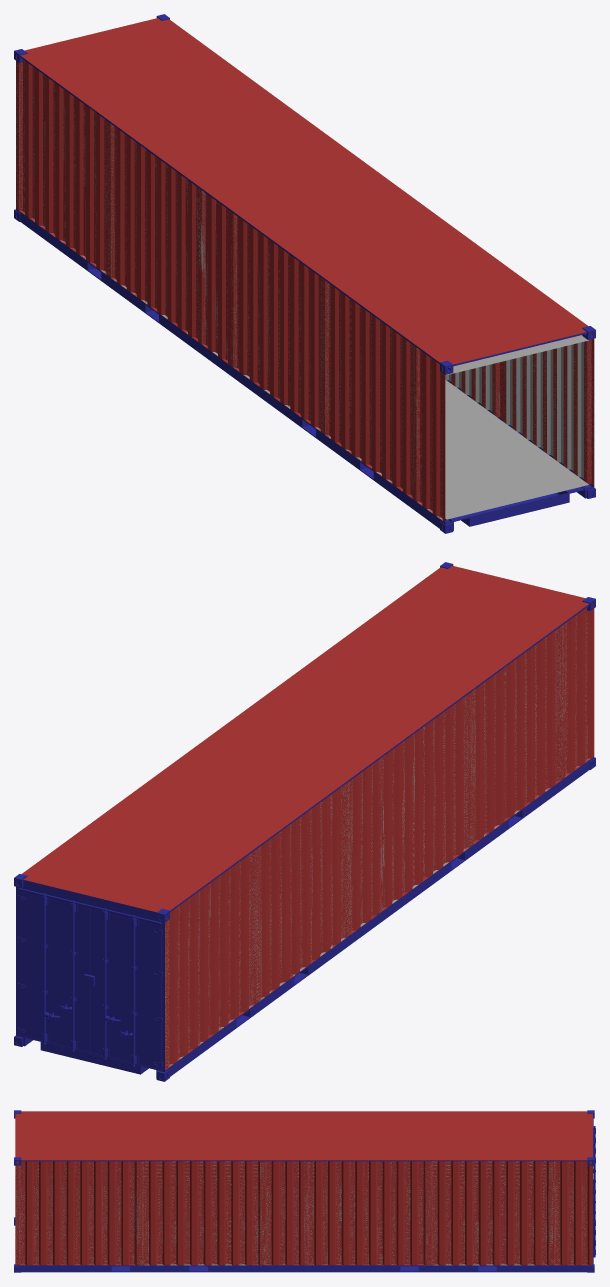
File: Container hollow 40ft walkthrough.fbx
The picture shows the model from 3 angles, top to bottom: view 1: azimuth 30°, elevation 25°; view 2: azimuth 150°, elevation 25°; view 3: azimuth 270°, elevation 25°; orthographic projection. The views are drawn at different scales.
Parts seen in each view (by area): view 1: Container_40ft_hollow_body; view 2: Container_40ft_hollow_body, Container_40ft_hollow_Door2, Container_40ft_hollow_Door3; view 3: Container_40ft_hollow_body, Container_40ft_hollow_Door2.
Boxes of the visible parts, x1,y1,x2,y2 form: Container_40ft_hollow_body: (14,14,595,533); Container_40ft_hollow_body: (14,562,595,1081); Container_40ft_hollow_Door2: (17,888,94,1053); Container_40ft_hollow_Door3: (90,905,162,1071); Container_40ft_hollow_body: (14,1110,594,1272); Container_40ft_hollow_Door2: (593,1142,595,1264).
Size of the model in its own units: 2.46 by 2.61 by 12.21.
